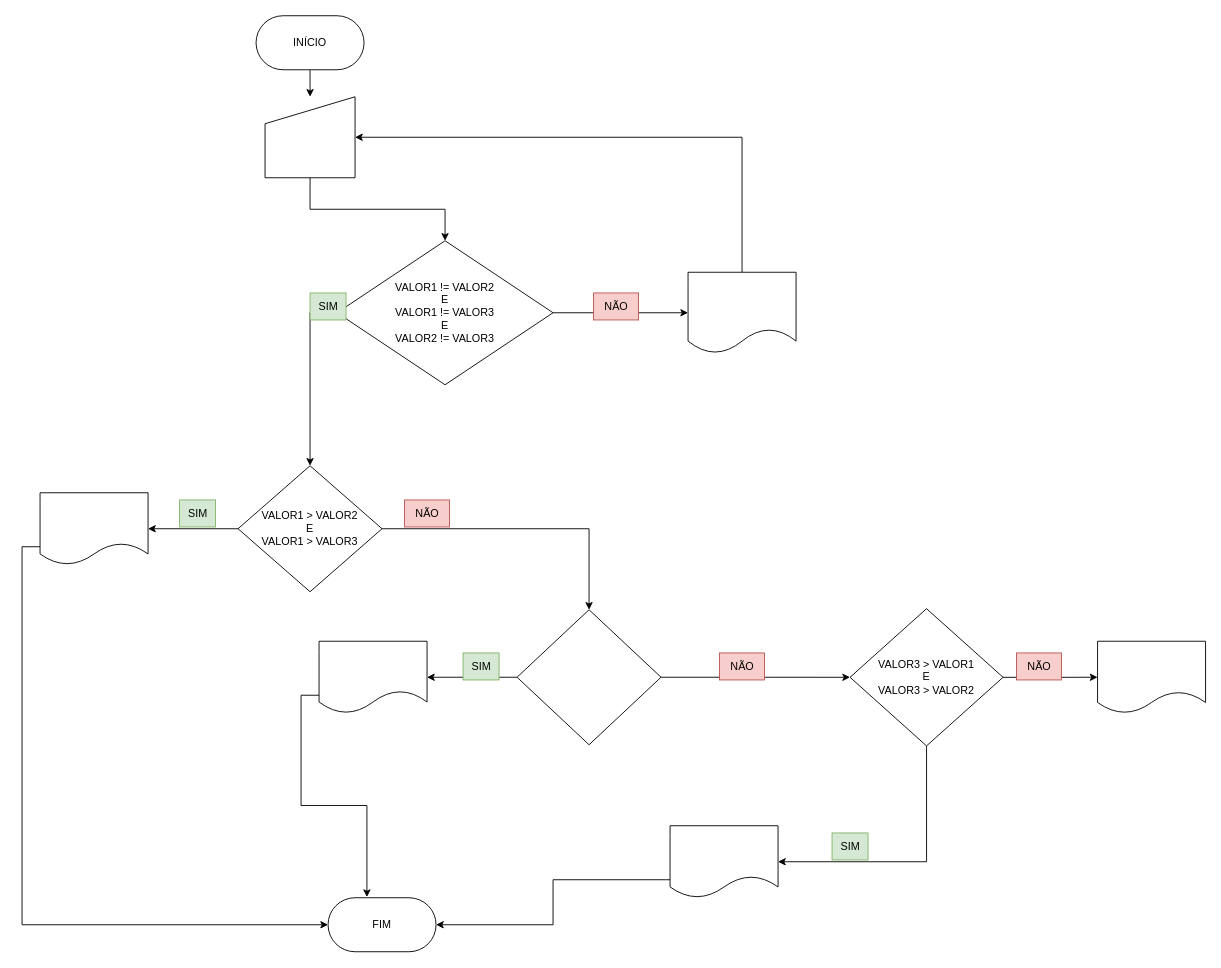
This 1221x968 diagram has some shape labels left out. Here are the shapes that lost their labels. From the top down, the centre of each, then its label:
point (309, 137): VALOR1, VALOR2, VALOR3
point (741, 312): ''VALORES INVÁLIDOS, DIGITE VALORES DIFERENTES''
point (93, 528): ''VALOR1 É O MAIOR''
point (372, 676): ''VALOR2 É O MAIOR"
point (588, 677): VALOR2 > VALOR1 E VALOR2 > VALOR3
point (1151, 676): ''INFORMAÇÕES INVÁLIDAS'' (ERRO)
point (723, 861): ''VALOR3 É O MAIOR"
